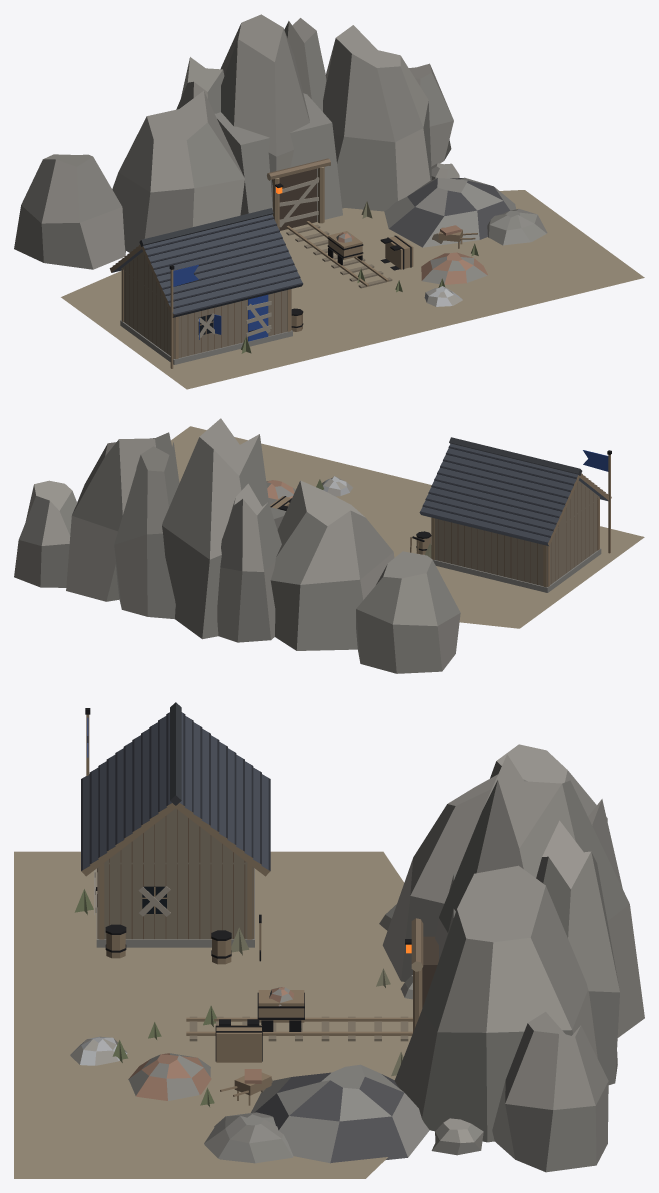
Rendered from grube.glb.
3 views of the same model, one above another, from view 1: azimuth 30°, elevation 25°; view 2: azimuth 150°, elevation 25°; view 3: azimuth 270°, elevation 25° (orthographic). The views are drawn at different scales.
Visible parts, largest first — view 1: Haus, Arbeit, Leerstand, Fahne; view 2: Haus, Arbeit, Fahne; view 3: Haus, Arbeit, Leerstand.
Part boxes in pixels (x1,y1,x2,y2): Haus: (14,14,644,389); Arbeit: (275,183,487,306); Leerstand: (197,176,478,353); Fahne: (169,265,198,368); Haus: (14,418,644,673); Arbeit: (266,476,431,554); Fahne: (583,450,611,553); Haus: (14,702,644,1178); Arbeit: (70,914,411,1105); Leerstand: (74,869,403,1106).
Size of the model in its own units: 22 by 8.18 by 17.93.
